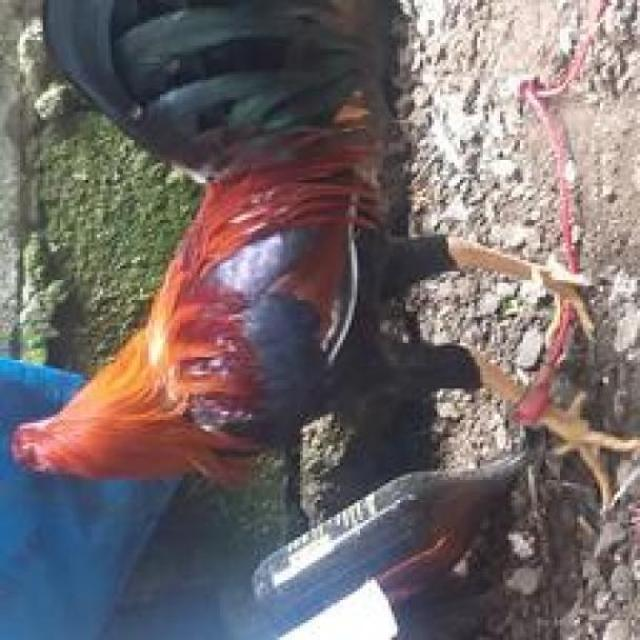Chicken: (18, 0, 634, 515)
